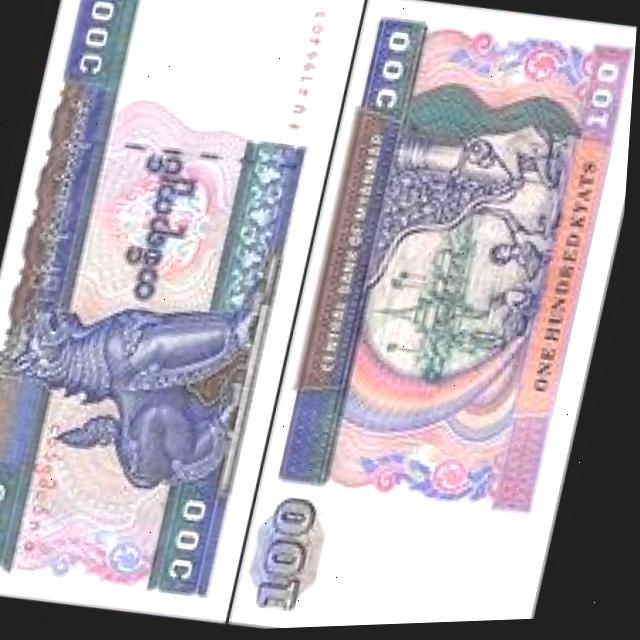banknote: (238, 0, 639, 632), (0, 0, 358, 623)
